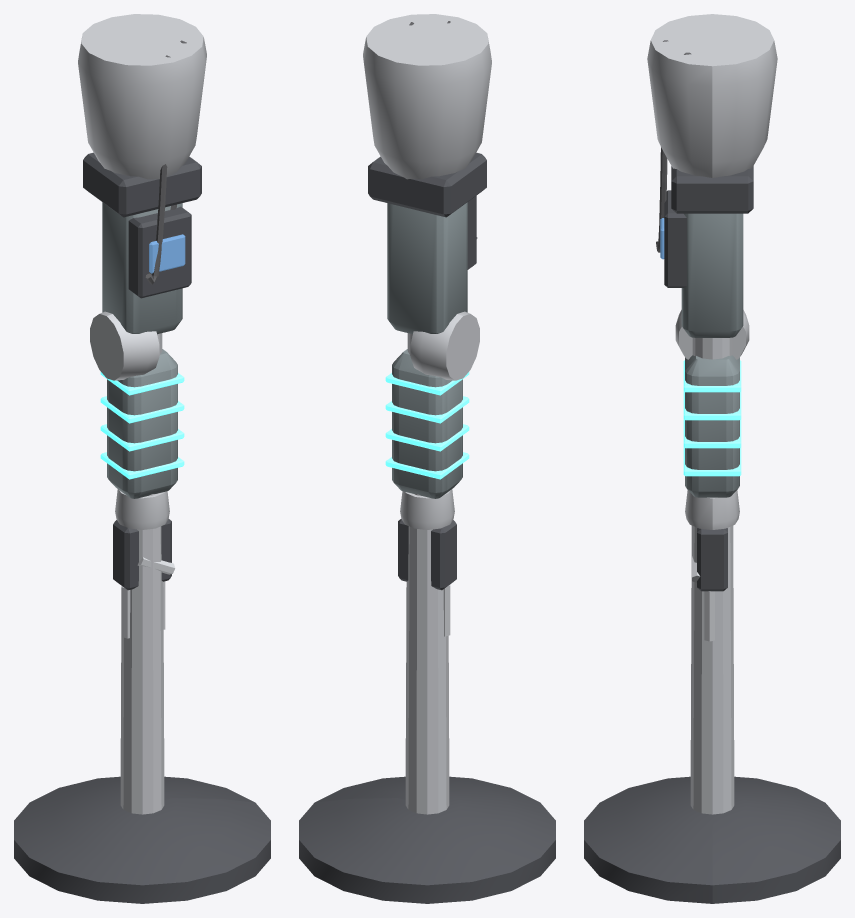
The model's file is cyberpunk-apartment-and-neon-block-prosthetic-arm-on-s-9c81e33b__37829.glb.
3 views of the same model, side by side, from view 1: azimuth 30°, elevation 25°; view 2: azimuth 150°, elevation 25°; view 3: azimuth 270°, elevation 25° (orthographic).
Visible parts, largest first — view 1: prosthetic-arm-on-stand; view 2: prosthetic-arm-on-stand; view 3: prosthetic-arm-on-stand.
Part boxes in pixels (bbox=[...]): prosthetic-arm-on-stand: bbox=[14, 14, 270, 903]; prosthetic-arm-on-stand: bbox=[299, 14, 555, 903]; prosthetic-arm-on-stand: bbox=[584, 14, 840, 903].
Bounding box in the file's own units: 0.38 × 1.3 × 0.3743.
